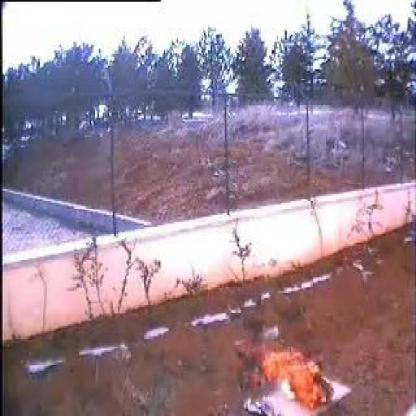foggia-v2-map80-epoch100 - v1 4323: (236, 341, 330, 411)
